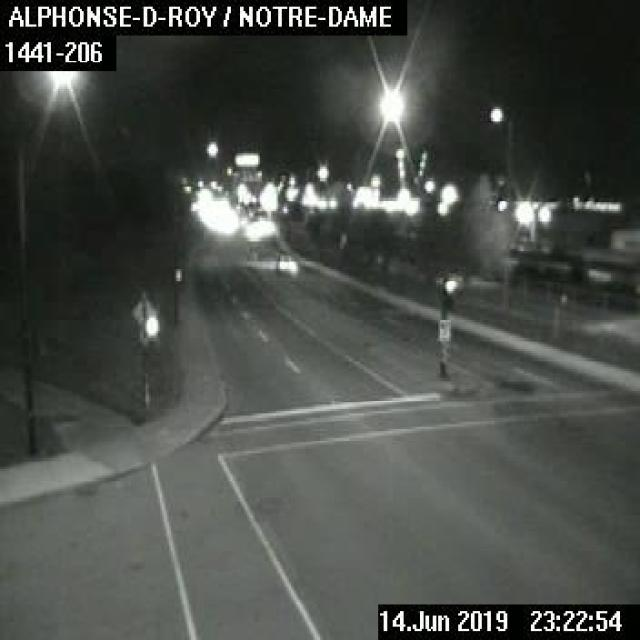vehicle: (274, 254, 296, 274)
